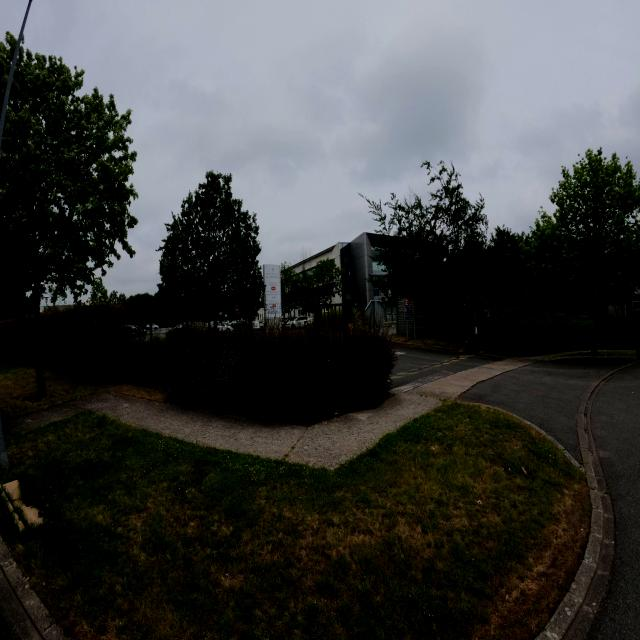car: (252, 318, 264, 329)
